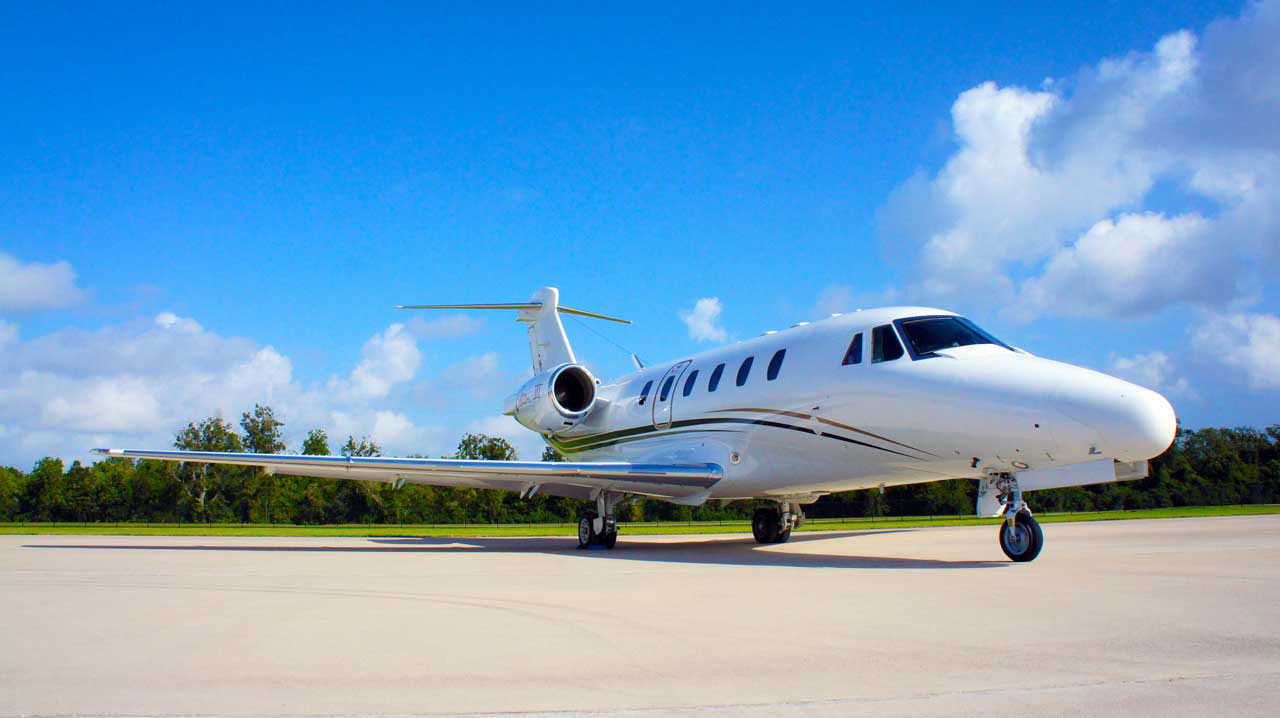Aeronef_commercial: (59, 272, 1198, 581)
